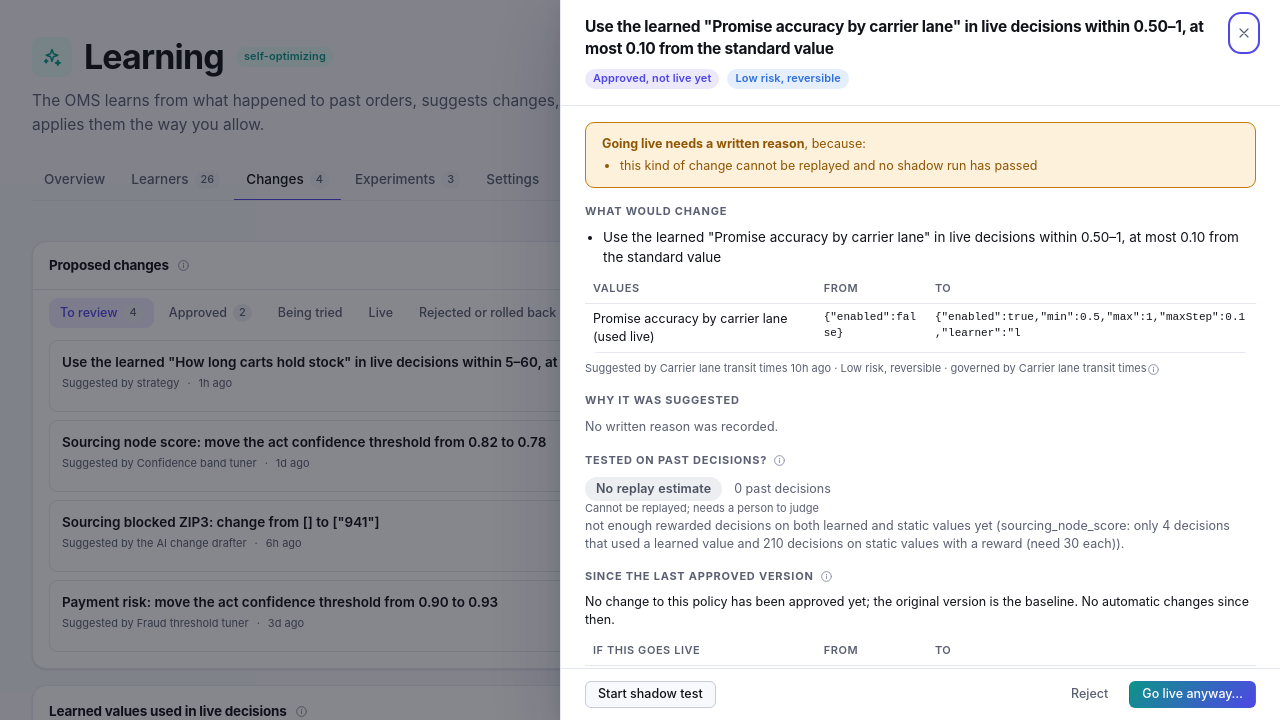
Test: Learning Console › asks for a written reason before a change with weak evidence goes live, and records it
Expected: the message with test id "promotion-concerns" shows "no shadow run has passed", [620,158,1037,173]
Click the button "Go live anyway…" at (1193, 694), box [1129,681,1256,708]
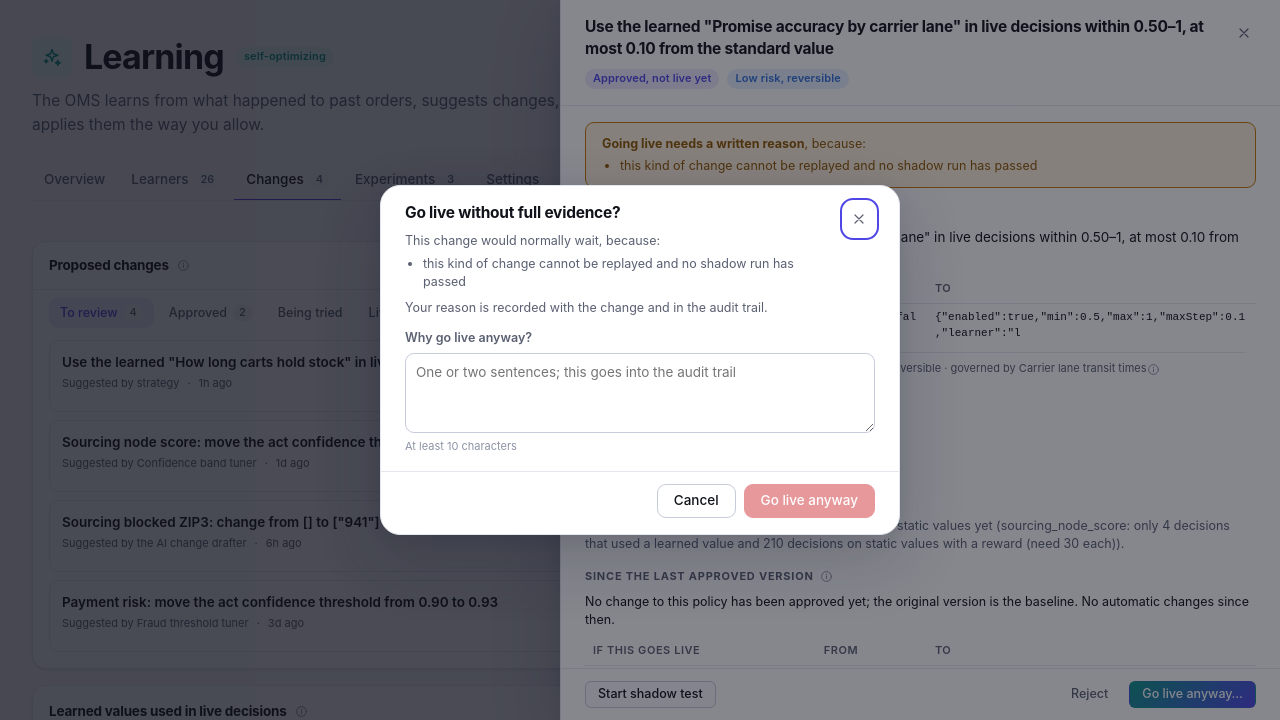
Now the list item "no shadow run has passed" is shown, box [423,256,794,289]
Type "too short" into the text box labelled "Why go live anyway?" at (640, 393), box [405,353,875,433]
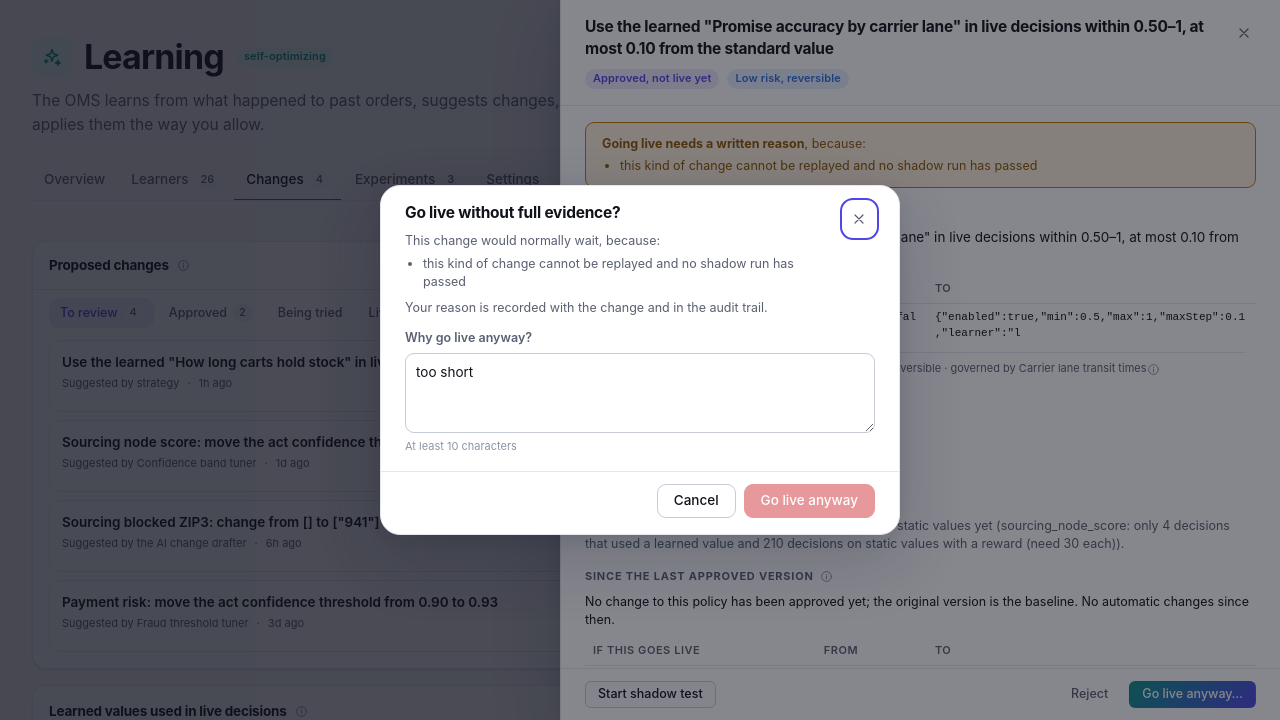
Now the button "Go live anyway" is disabled, box [744,484,875,518]
Replace the text in the text box labelled "Why go live anyway?" with "Pilot agreed with the operations lead for one week" at (640, 393), box [405,353,875,433]
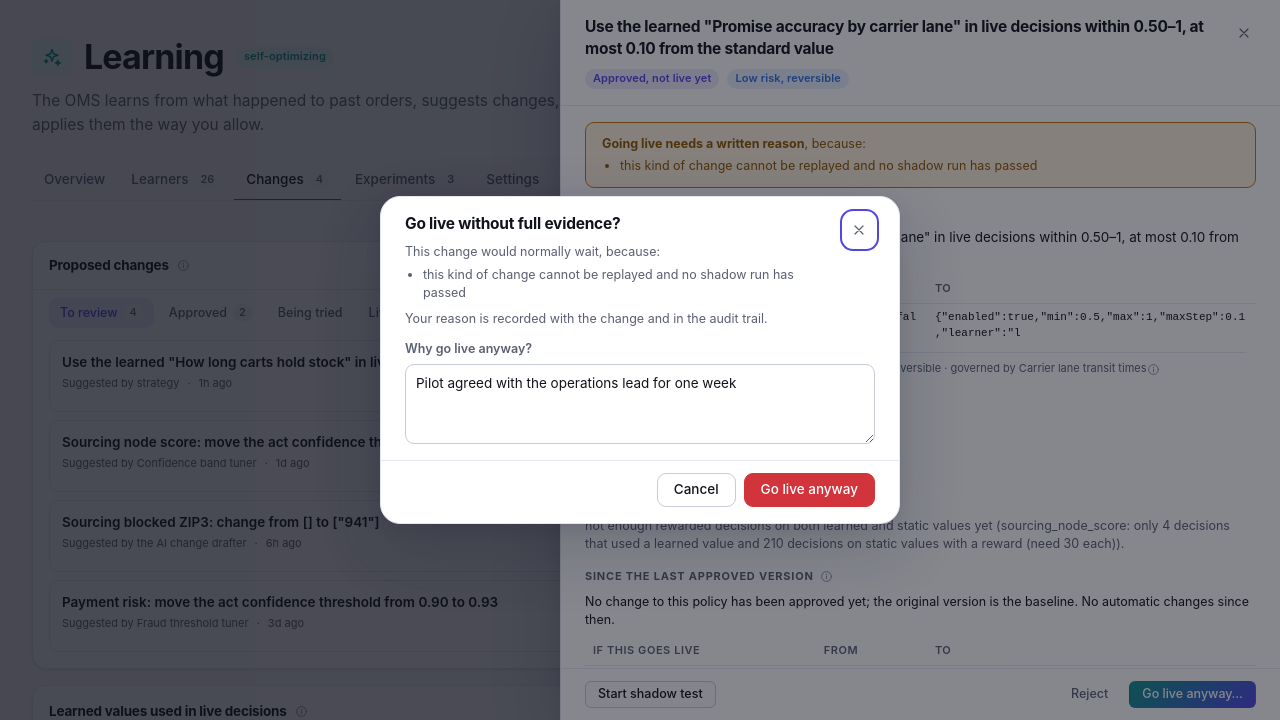
Now the button "Go live anyway" is enabled
Click the button "Go live anyway" at (809, 490), box [744,473,875,507]
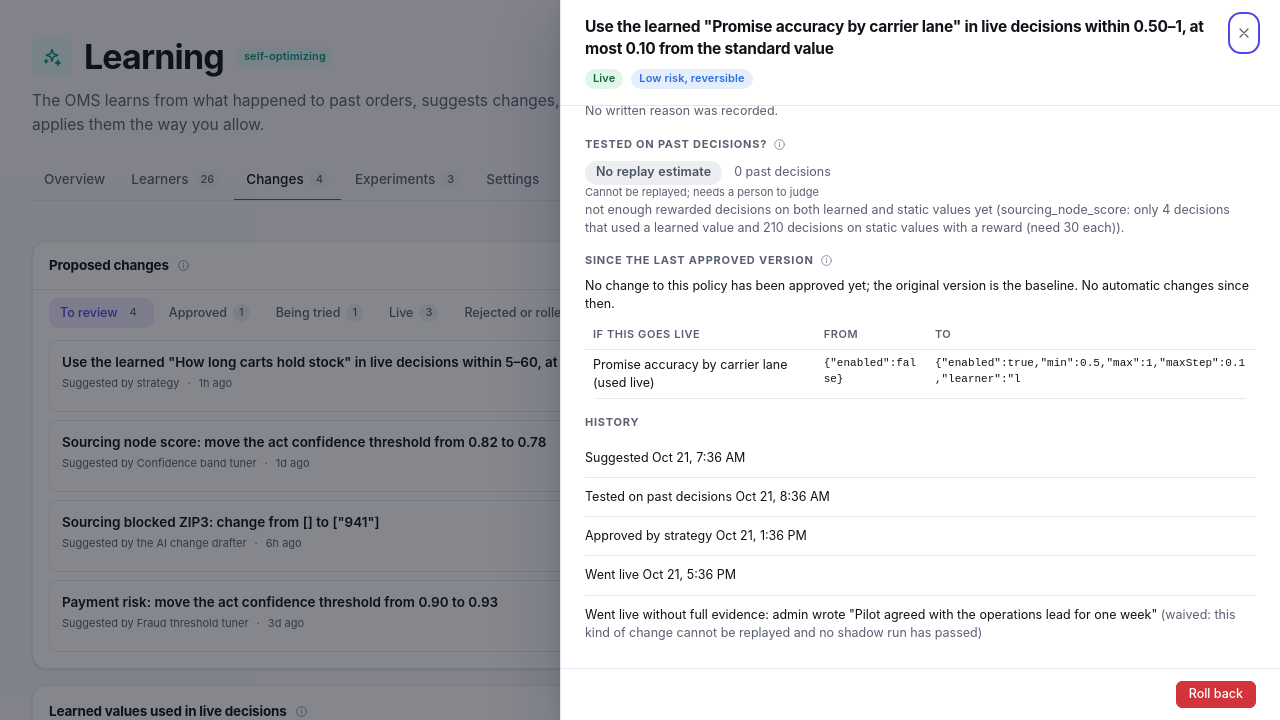
Now the element with test id "promotion-note" shows "Pilot agreed with the operations lead", box [855,607,1151,622]
